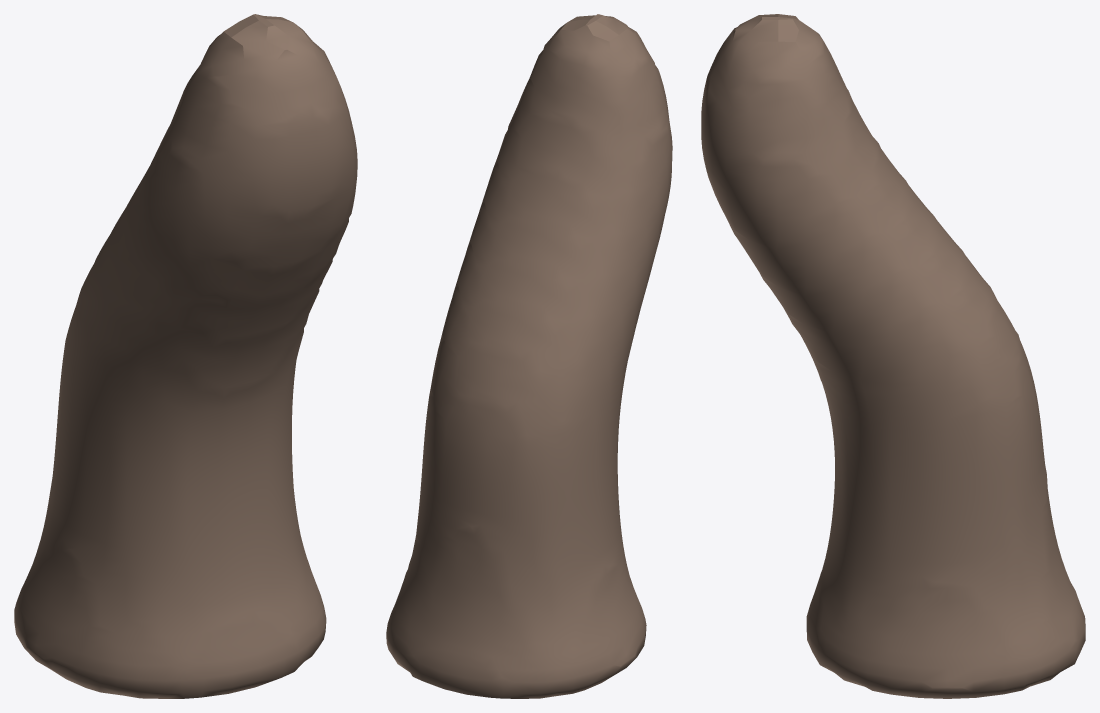
Rendered from MushroomStemTilt2.fbx.
The picture shows the model from 3 angles, left to right: view 1: azimuth 30°, elevation 25°; view 2: azimuth 150°, elevation 25°; view 3: azimuth 270°, elevation 25°; orthographic projection. The views are drawn at different scales.
Visible parts, largest first — view 1: Cube.001; view 2: Cube.001; view 3: Cube.001.
Part boxes in pixels (x1,y1,x2,y2): Cube.001: (14, 14, 357, 698); Cube.001: (386, 14, 672, 698); Cube.001: (701, 14, 1085, 698).
Size of the model in its own units: 78.69 by 196 by 107.
